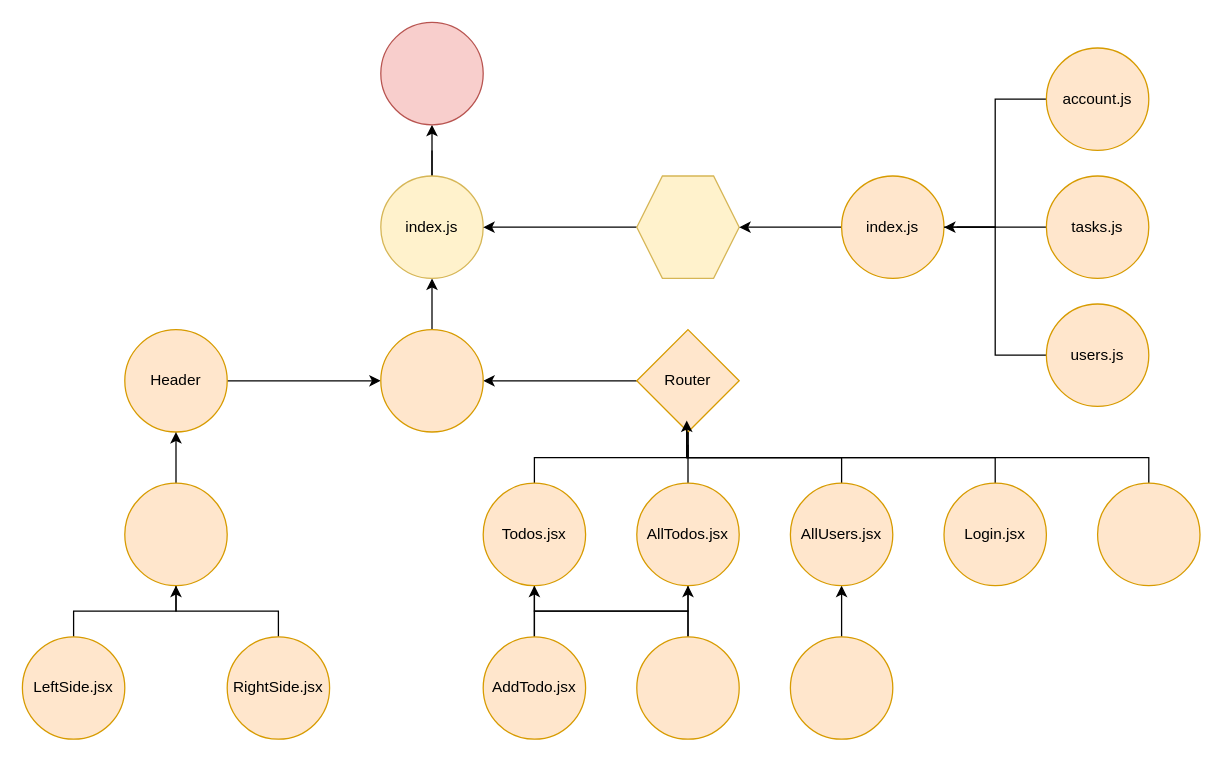
Image size: 1222x762. Some labels were removed from this diagram. Here are the shapes that lost their labels. From the top down, the centre of each, then its label:
point 431,73: index.html
point 687,226: reducers
point 431,380: app.js
point 175,534: index.jsx
point 1148,534: Register.jsx
point 687,687: TodoCard.jsx
point 841,687: UserCard.jsx
